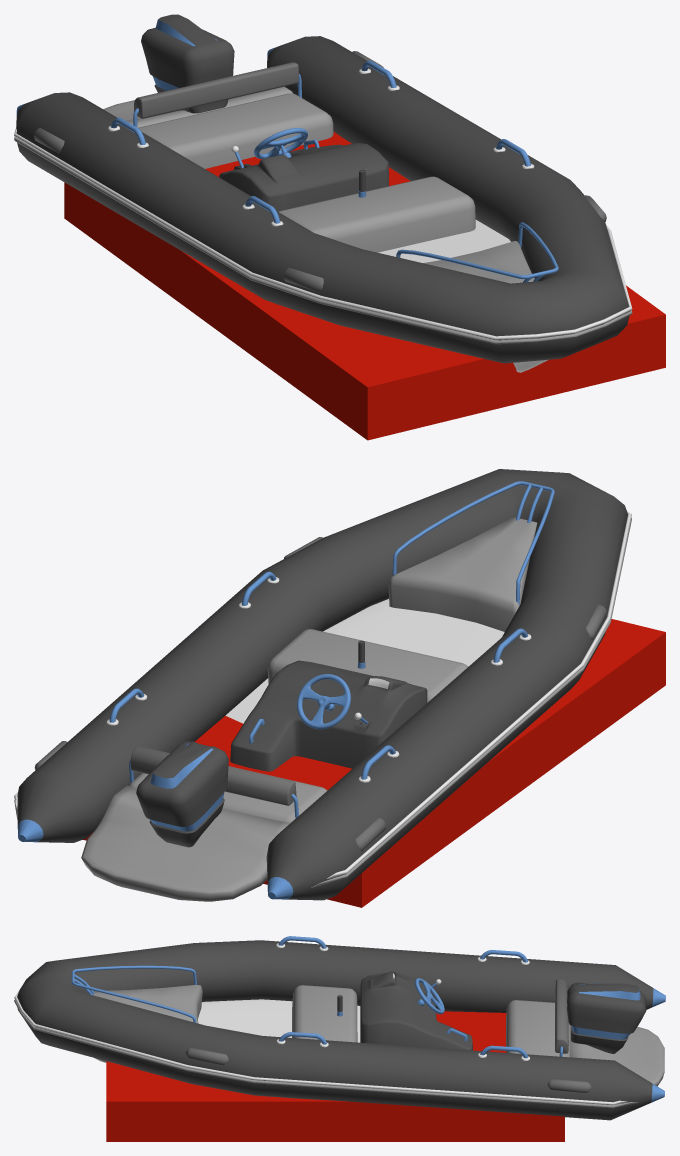
File: boat.fbx
The picture shows the model from 3 angles, top to bottom: view 1: azimuth 30°, elevation 25°; view 2: azimuth 150°, elevation 25°; view 3: azimuth 270°, elevation 25°; orthographic projection. The views are drawn at different scales.
Parts seen in each view (by area): view 1: boat, boat_parent; view 2: boat, boat_parent; view 3: boat, boat_parent.
Part boxes in pixels (bbox=[...]): boat: bbox=[14, 14, 632, 372]; boat_parent: bbox=[64, 132, 665, 440]; boat: bbox=[14, 469, 631, 901]; boat_parent: bbox=[83, 619, 665, 907]; boat: bbox=[14, 936, 665, 1120]; boat_parent: bbox=[106, 1011, 564, 1141].
Size of what is drawn, in the model's own units: 4.07 by 1.72 by 9.11.
